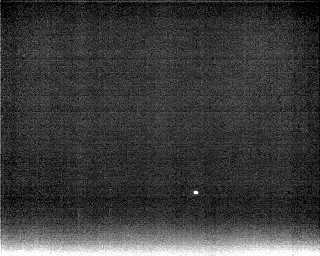BIRD: (191, 187, 201, 198)
